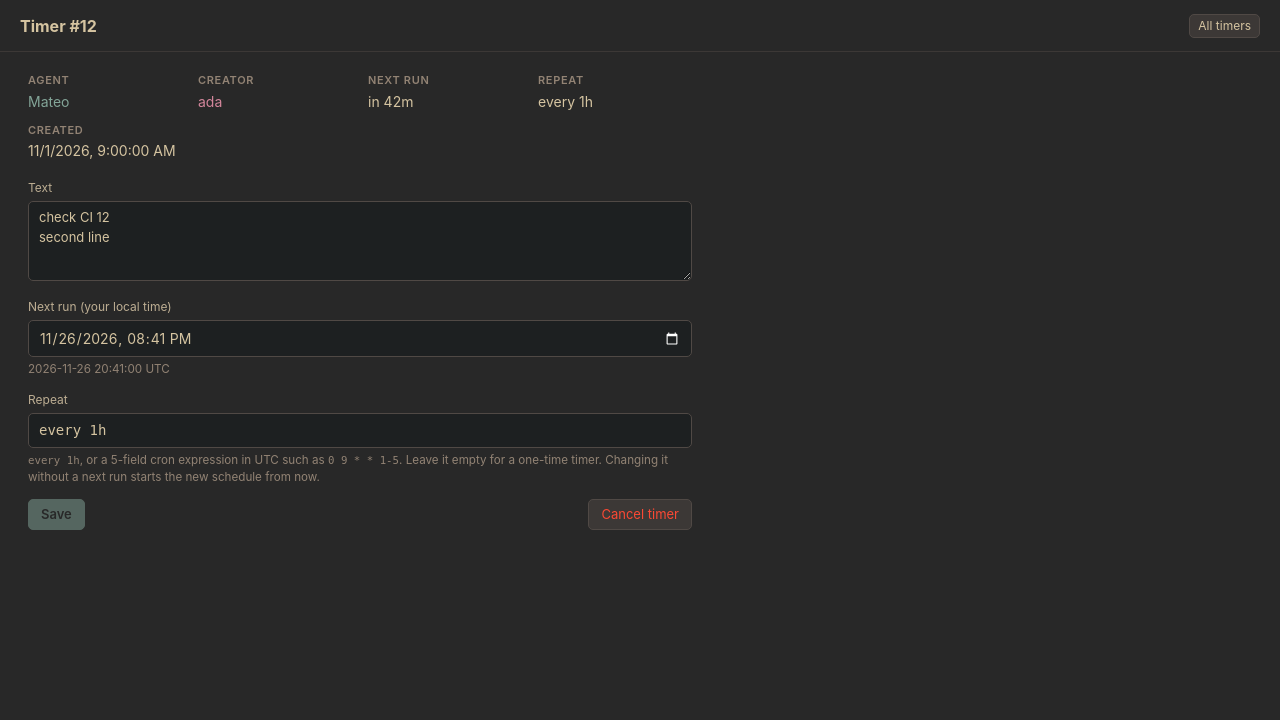
Test case: Timer details › treats a save refused for a missing timer as gone
Replace the text in the text box labelled "Text" with "x" at (360, 241), box 28,201 -> 692,281
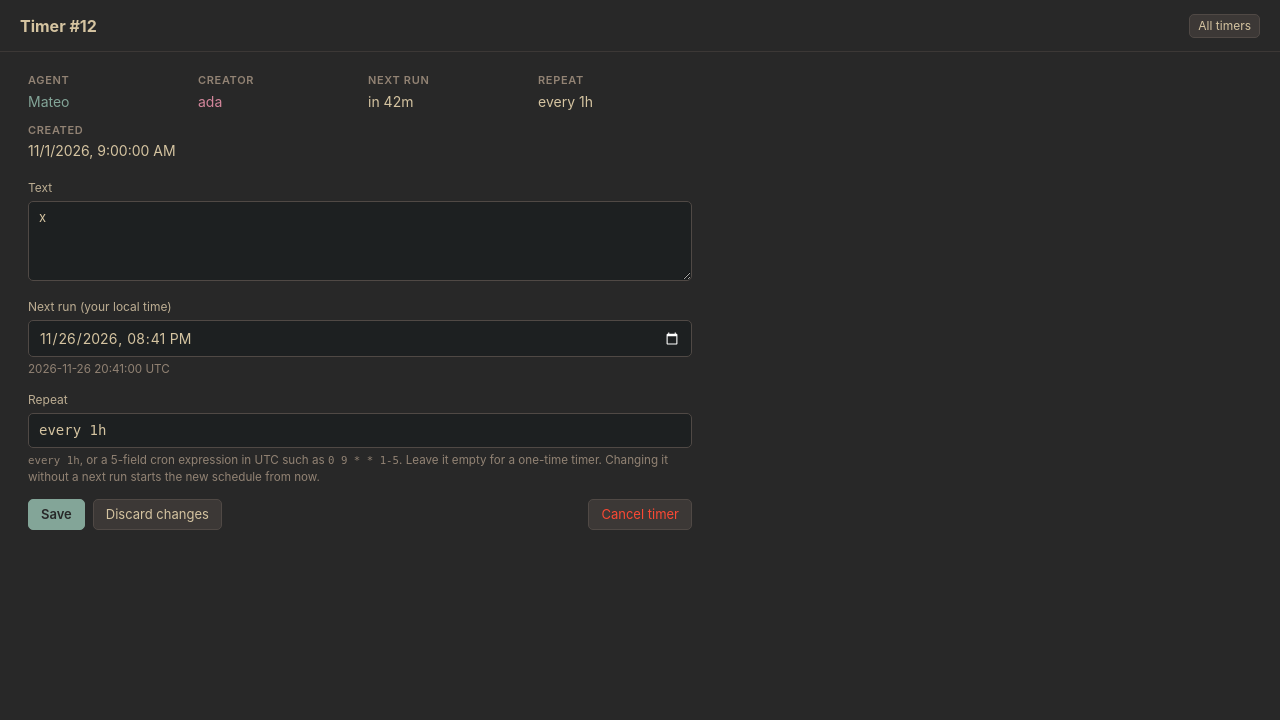
Click the button "Save" at (56, 514), box 28,498 -> 85,530
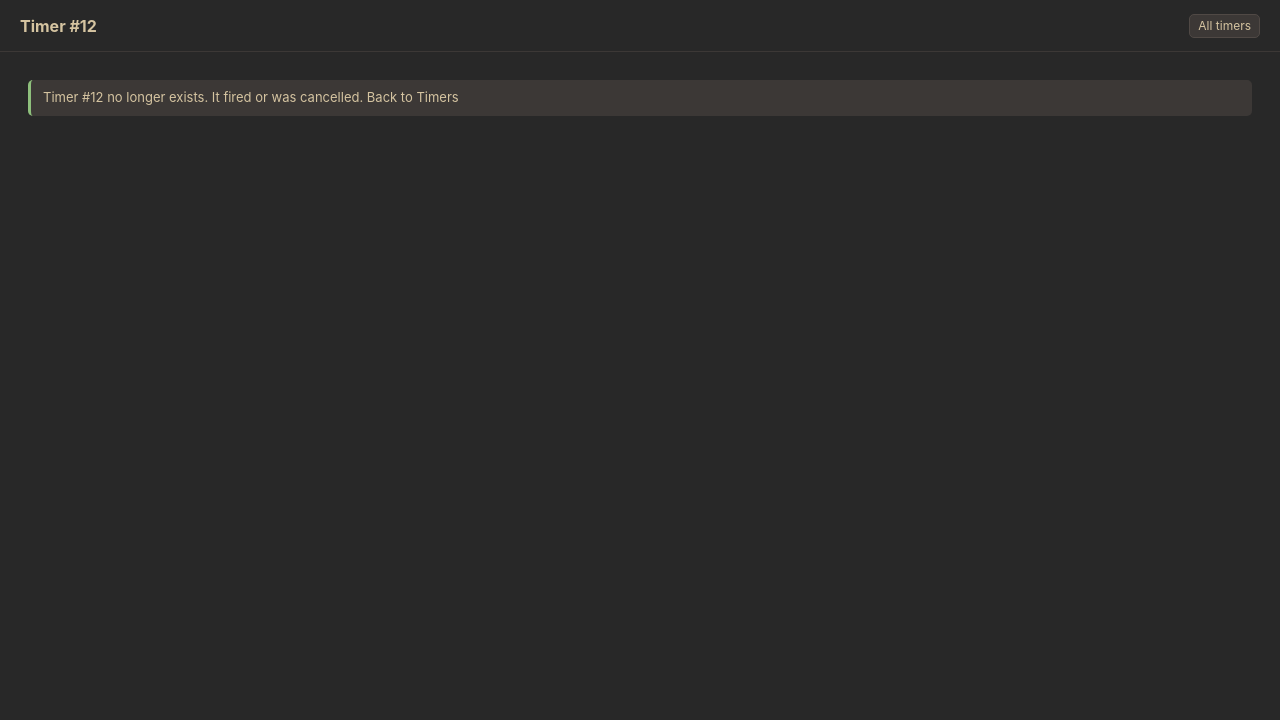
Result: the text "Timer #12 no longer exists" is shown at 28,80 -> 1252,116
